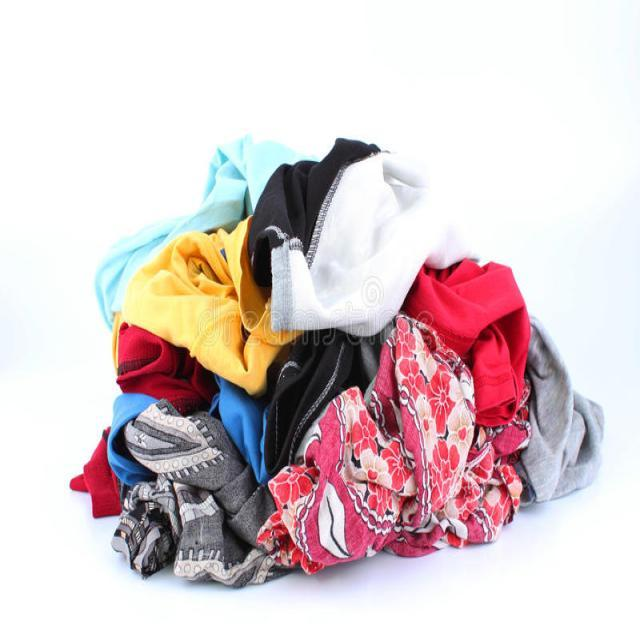clothes: (92, 122, 599, 576)
